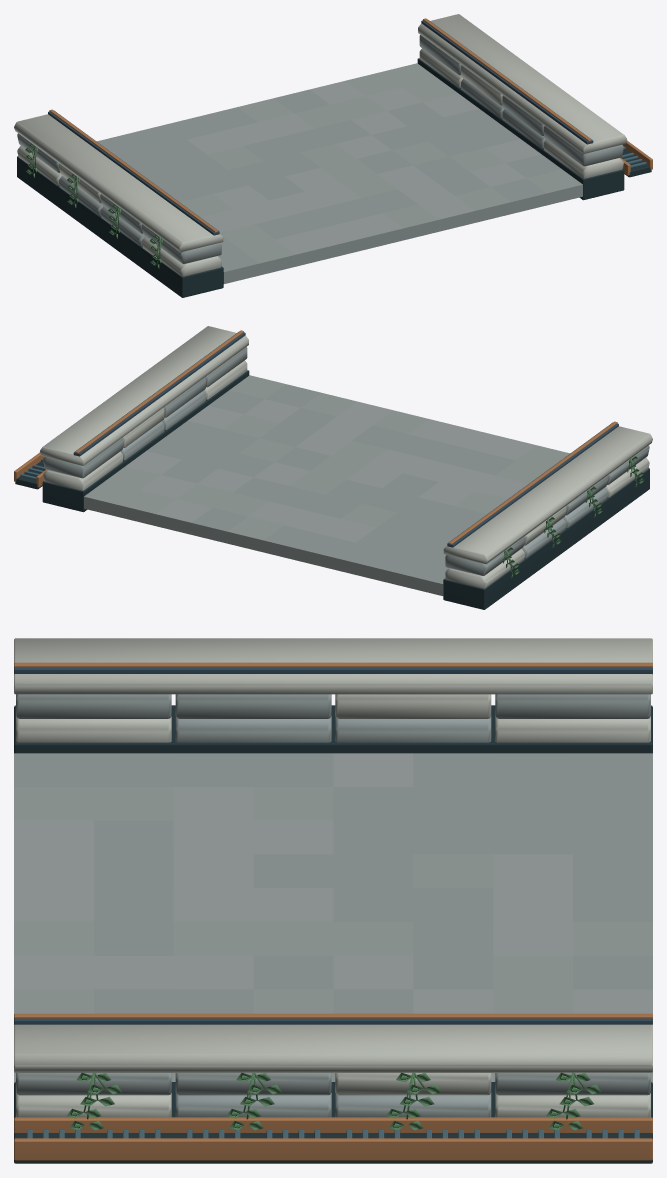
Rendered from STURMBASTION_CORRIDOR_TILE.hi.glb.
The picture shows the model from 3 angles, top to bottom: view 1: azimuth 30°, elevation 25°; view 2: azimuth 150°, elevation 25°; view 3: azimuth 270°, elevation 25°; orthographic projection. The views are drawn at different scales.
Visible parts, largest first — view 1: STURMBASTION_CORRIDOR_TILE_Geometry; view 2: STURMBASTION_CORRIDOR_TILE_Geometry; view 3: STURMBASTION_CORRIDOR_TILE_Geometry.
Boxes of the visible parts, bbox=[...] form: STURMBASTION_CORRIDOR_TILE_Geometry: bbox=[14, 14, 652, 297]; STURMBASTION_CORRIDOR_TILE_Geometry: bbox=[14, 326, 652, 609]; STURMBASTION_CORRIDOR_TILE_Geometry: bbox=[14, 638, 652, 1163].
Size of the model in its own units: 13.35 by 1.57 by 8.
